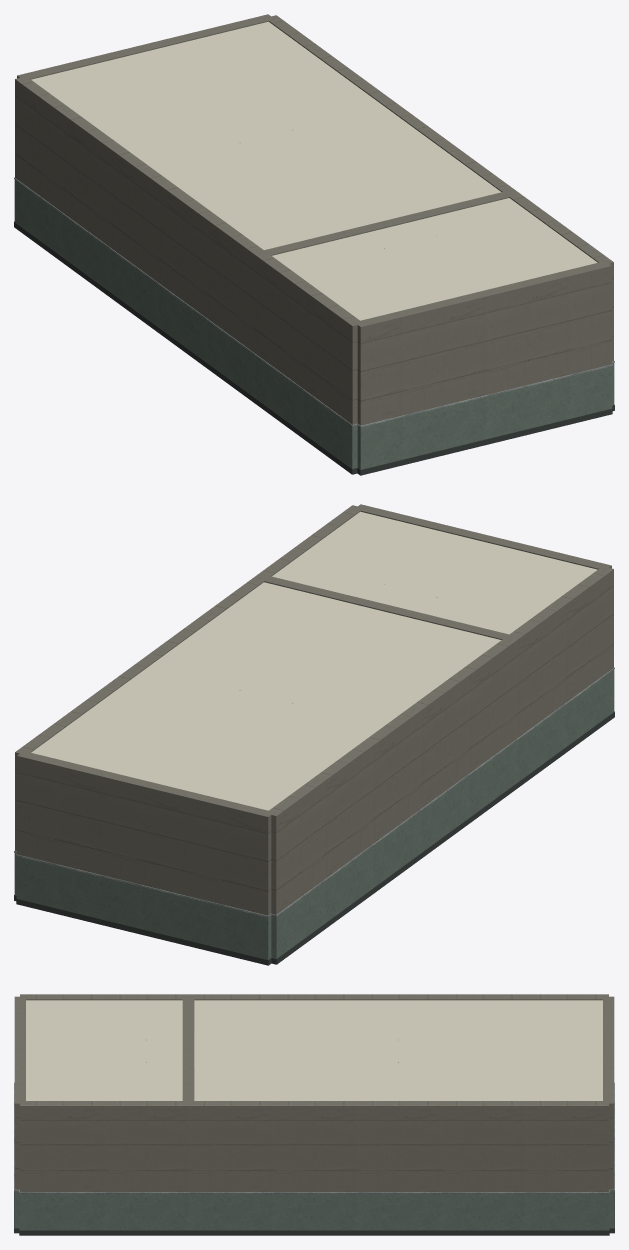
File: foundation_pump_room.glb
The picture shows the model from 3 angles, top to bottom: view 1: azimuth 30°, elevation 25°; view 2: azimuth 150°, elevation 25°; view 3: azimuth 270°, elevation 25°; orthographic projection. The views are drawn at different scales.
Visible parts, largest first — view 1: foundation_pump_room / power_instrument_ivory, foundation_pump_room / power_plaster, foundation_pump_room / power_sage_enamel, foundation_pump_room / power_blackened_steel, foundation_pump_room / power_galvanized; view 2: foundation_pump_room / power_instrument_ivory, foundation_pump_room / power_plaster, foundation_pump_room / power_sage_enamel, foundation_pump_room / power_blackened_steel, foundation_pump_room / power_galvanized; view 3: foundation_pump_room / power_plaster, foundation_pump_room / power_instrument_ivory, foundation_pump_room / power_sage_enamel, foundation_pump_room / power_blackened_steel, foundation_pump_room / power_galvanized.
Part boxes in pixels (box(x1,y1,x2,y2)): foundation_pump_room / power_instrument_ivory: box(31, 21, 597, 320); foundation_pump_room / power_plaster: box(15, 14, 613, 425); foundation_pump_room / power_sage_enamel: box(14, 180, 614, 469); foundation_pump_room / power_blackened_steel: box(14, 221, 614, 475); foundation_pump_room / power_galvanized: box(14, 129, 614, 427); foundation_pump_room / power_instrument_ivory: box(31, 511, 597, 810); foundation_pump_room / power_plaster: box(15, 504, 613, 915); foundation_pump_room / power_sage_enamel: box(14, 670, 614, 959); foundation_pump_room / power_blackened_steel: box(14, 711, 614, 965); foundation_pump_room / power_galvanized: box(14, 584, 614, 917); foundation_pump_room / power_plaster: box(14, 994, 614, 1191); foundation_pump_room / power_instrument_ivory: box(26, 1000, 602, 1100); foundation_pump_room / power_sage_enamel: box(14, 1191, 614, 1230); foundation_pump_room / power_blackened_steel: box(14, 1191, 614, 1235); foundation_pump_room / power_galvanized: box(14, 1039, 614, 1193).
Size of the model in its own units: 6.3 by 3.41 by 14.3.
7 materials, 4 textured.
